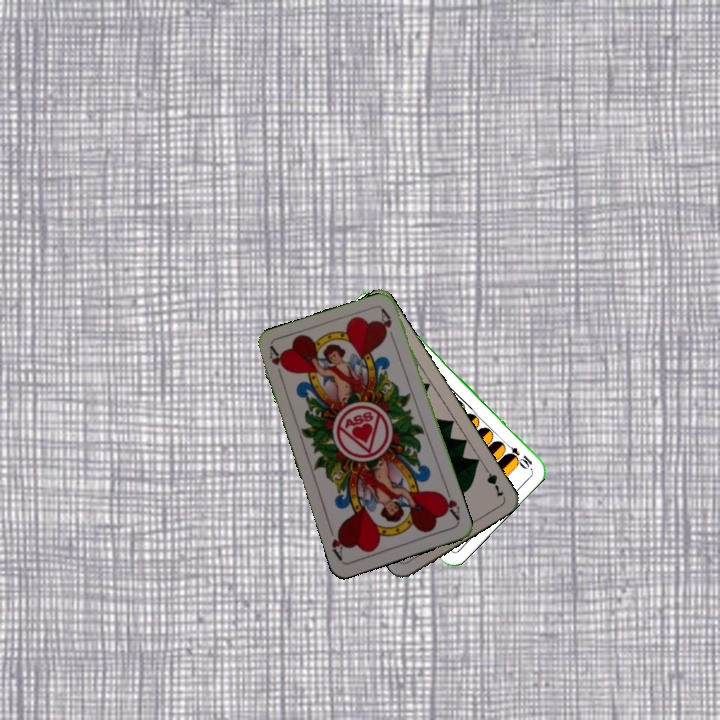E10: (500, 438, 535, 471)
G7: (479, 462, 506, 500)
HA: (436, 485, 462, 523), (265, 344, 289, 383)
